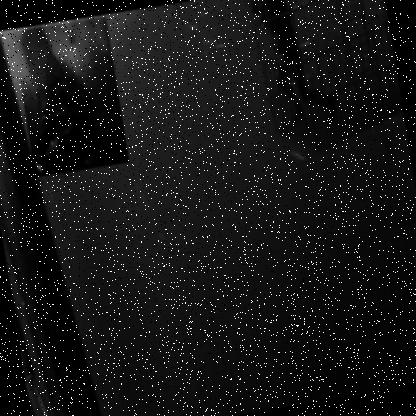white-shark: (11, 16, 129, 178)
